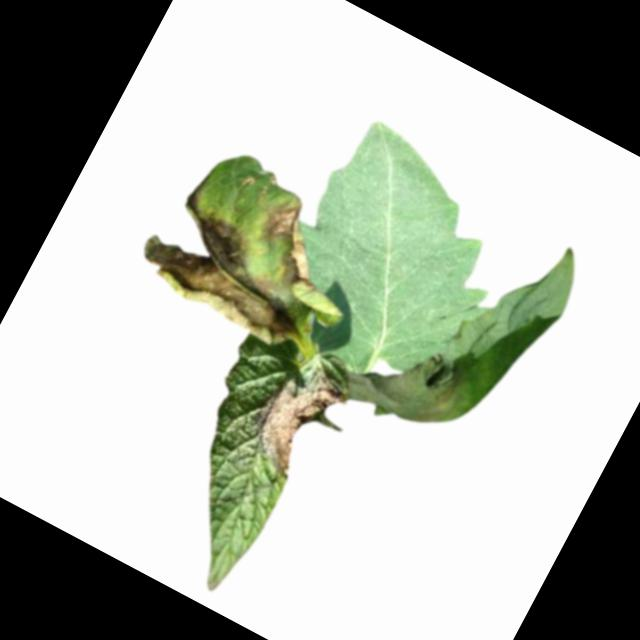Late_blight: (129, 178, 335, 354), (342, 323, 479, 446), (238, 356, 354, 488), (238, 189, 342, 300)
